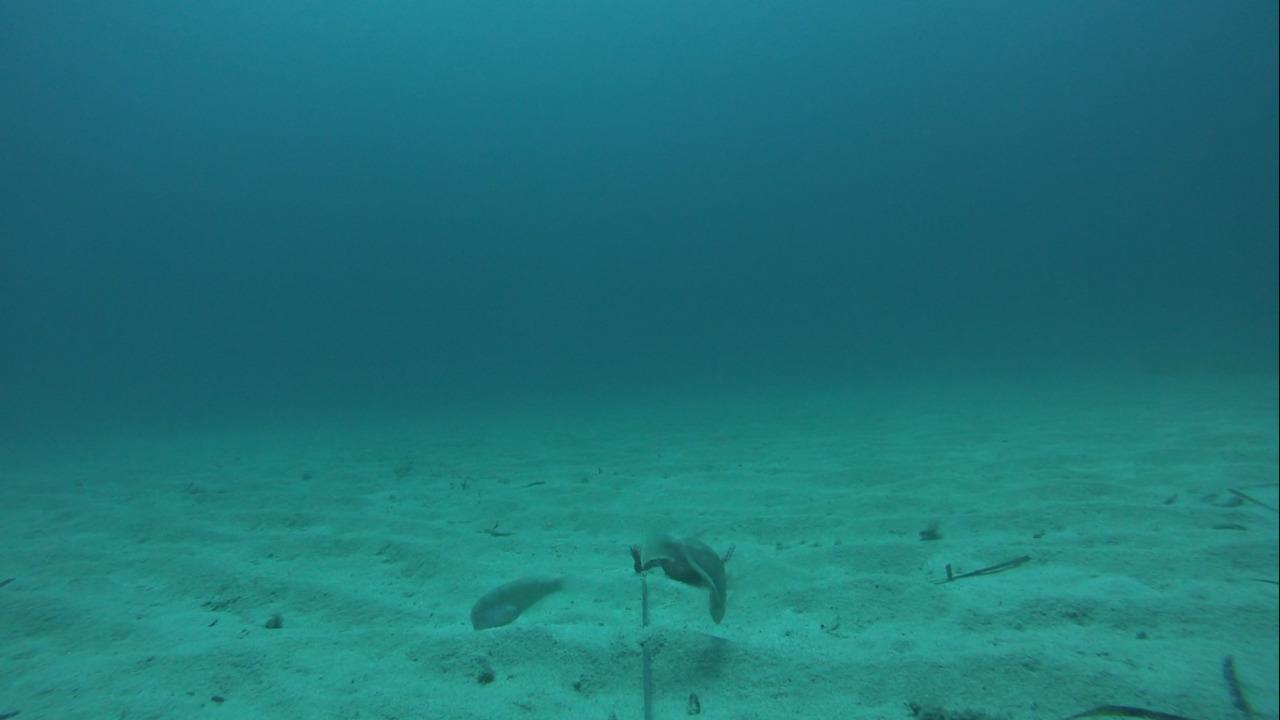raor: (467, 571, 575, 634), (658, 527, 730, 621)
